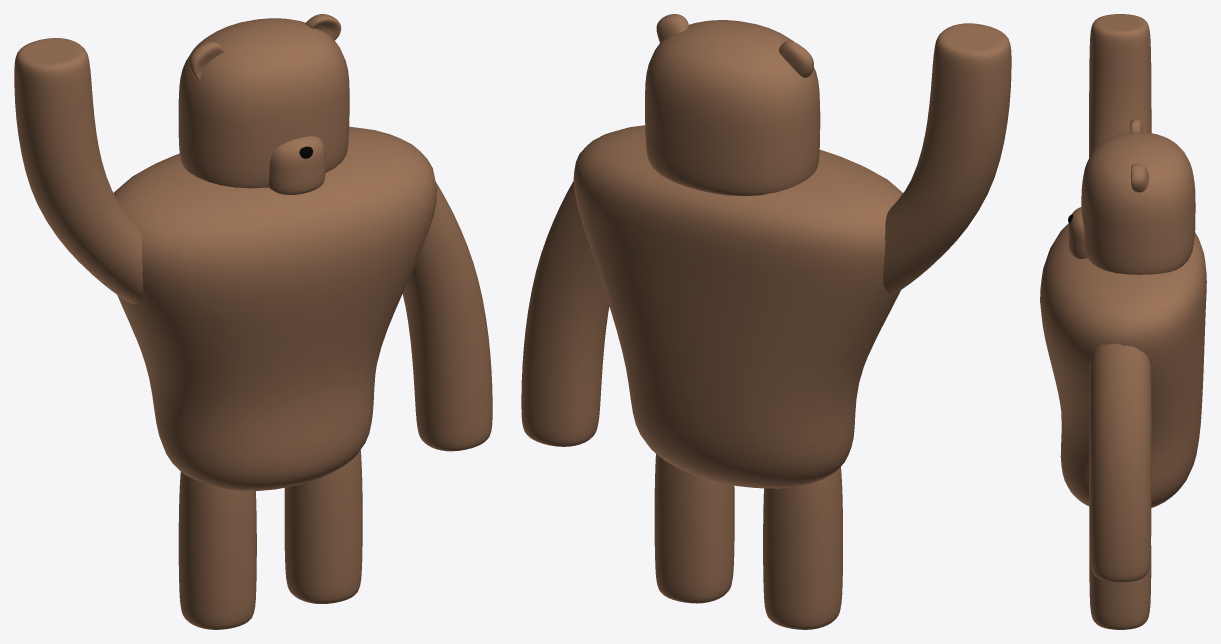
Rendered from bear.fbx.
3 renders of one model, left to right at view 1: azimuth 30°, elevation 25°; view 2: azimuth 150°, elevation 25°; view 3: azimuth 270°, elevation 25°, orthographic. The views are drawn at different scales.
Visible parts, largest first — view 1: Cube.012; view 2: Cube.012; view 3: Cube.012.
Part boxes in pixels (left/top/right/bottom): Cube.012: left=14, top=14, right=492, bottom=629; Cube.012: left=521, top=14, right=1011, bottom=629; Cube.012: left=1040, top=14, right=1206, bottom=629.
Bounding box in the file's own units: 210 × 261 × 80.25.
